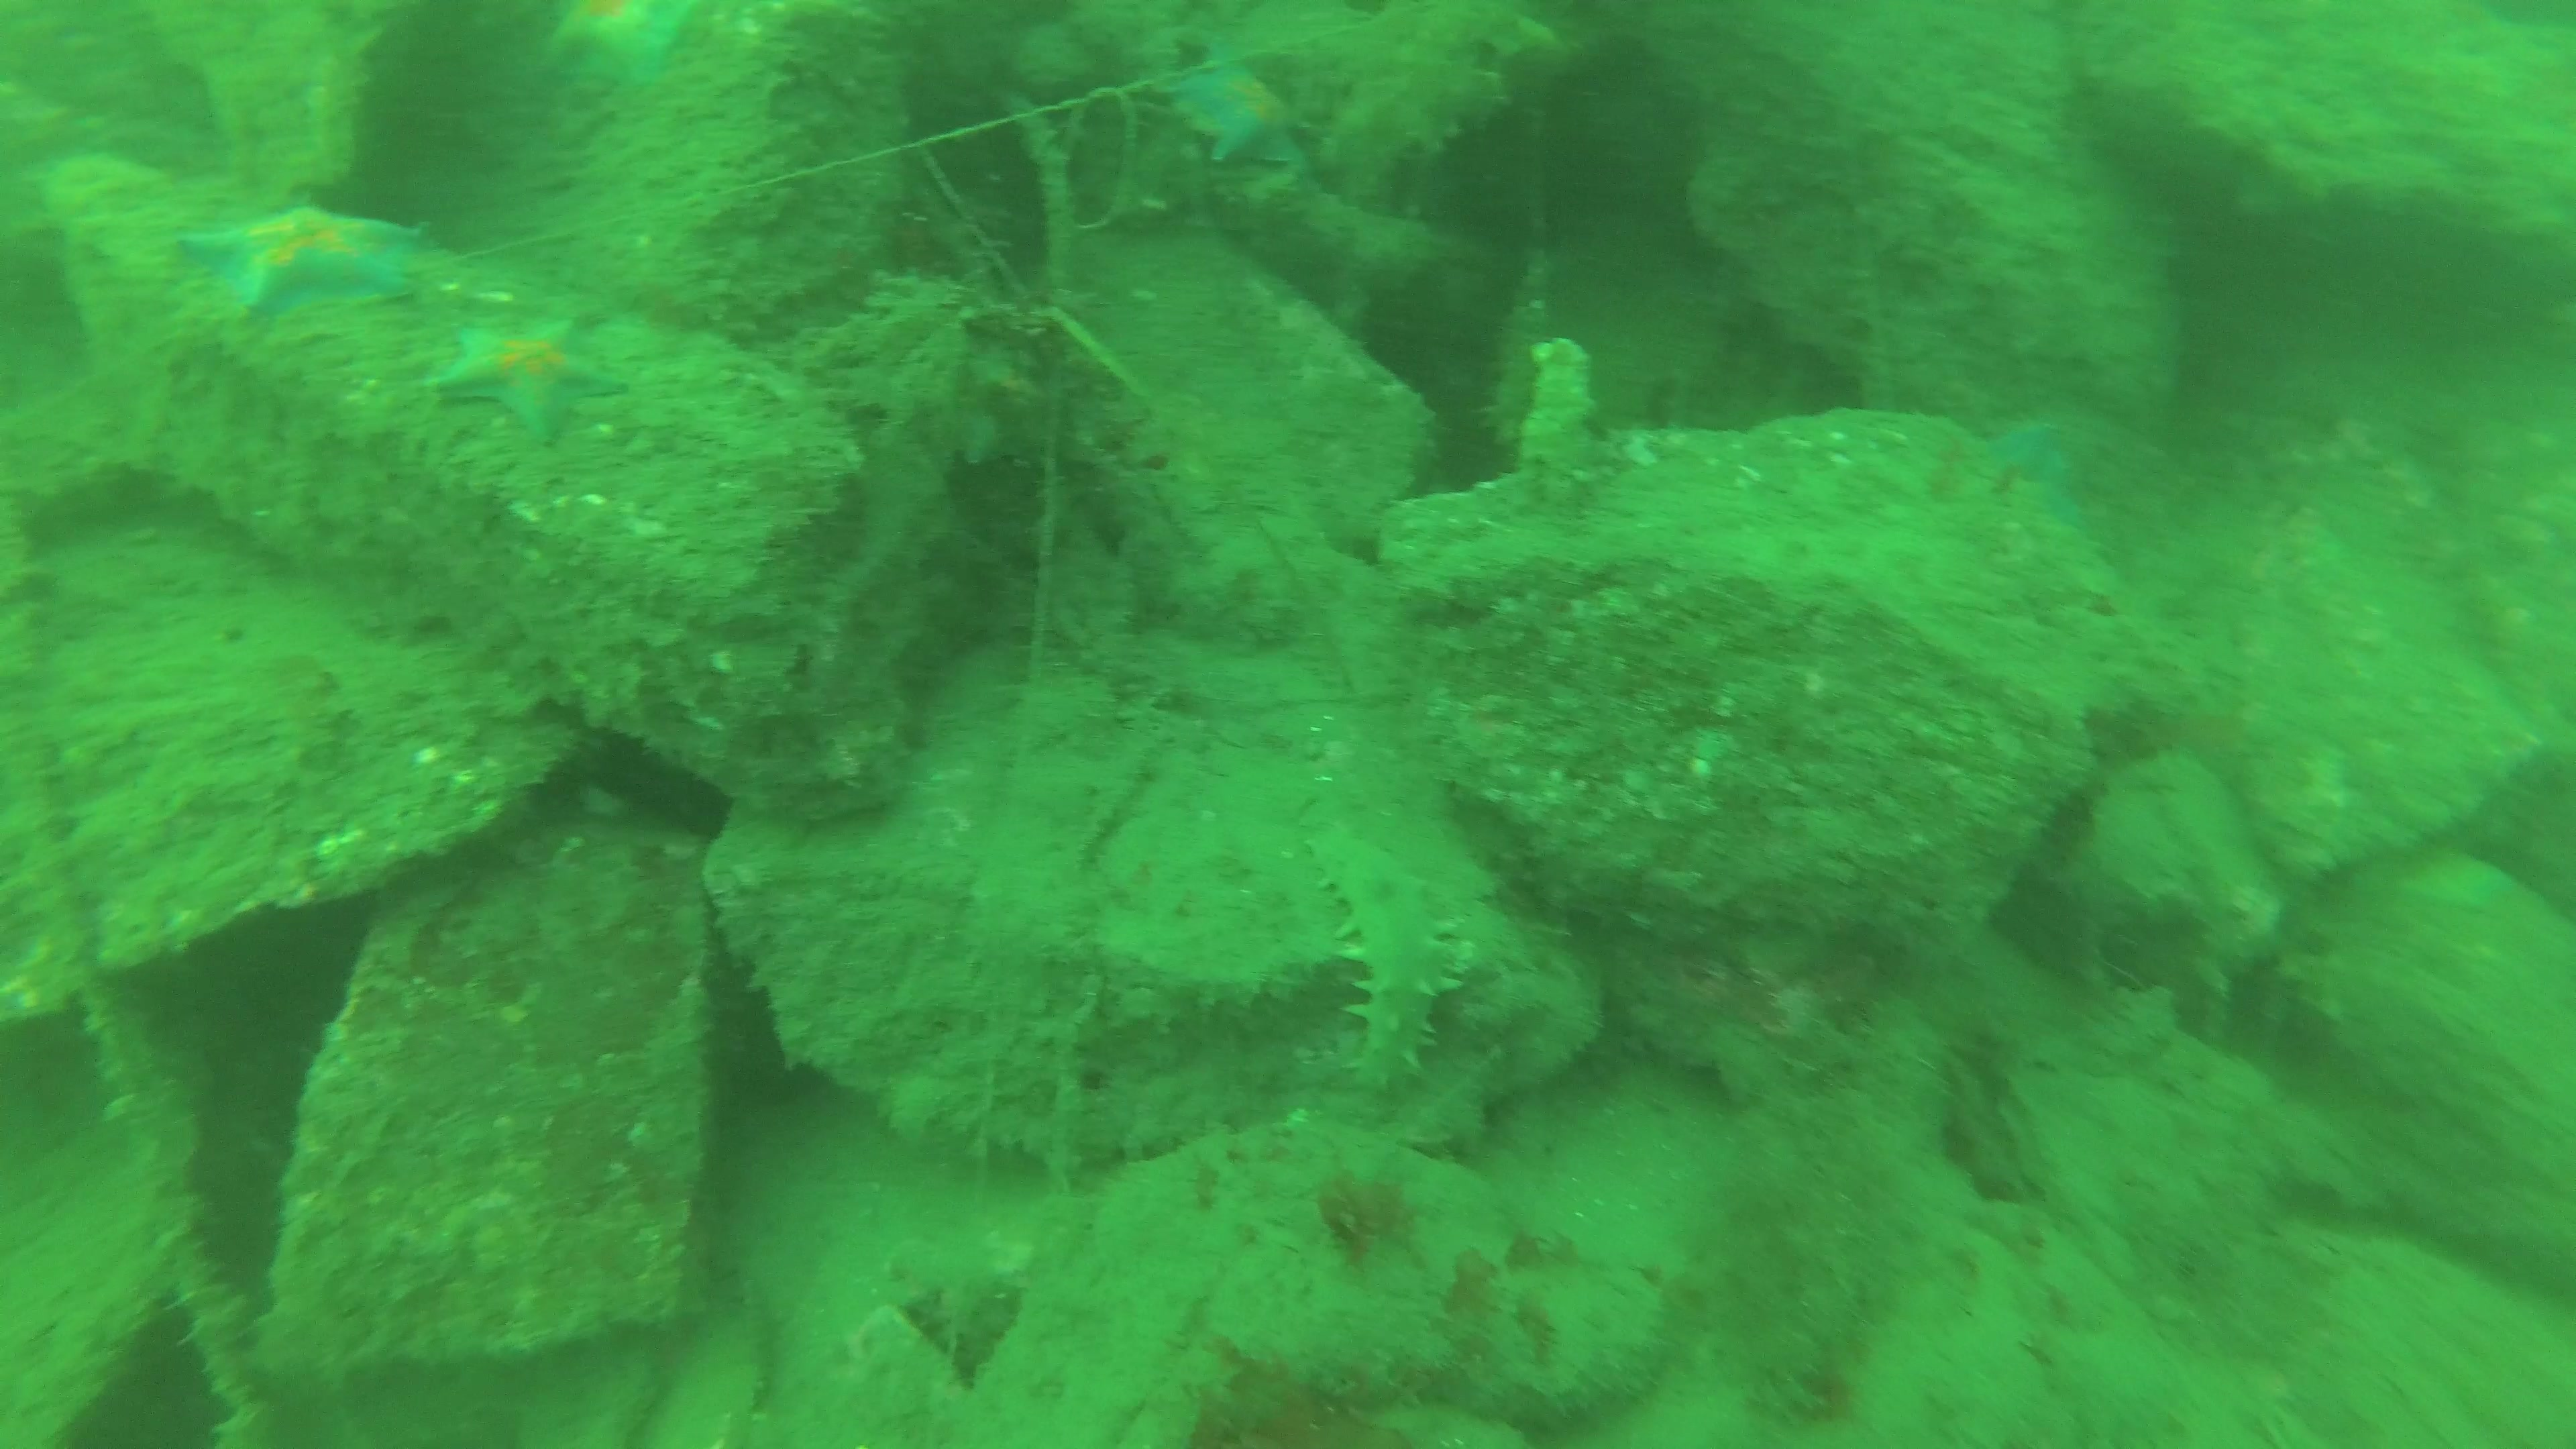holothurian: (1293, 812, 1479, 1099)
starfish: (166, 196, 435, 341), (426, 294, 640, 456), (1152, 58, 1334, 179), (1978, 421, 2082, 517)
